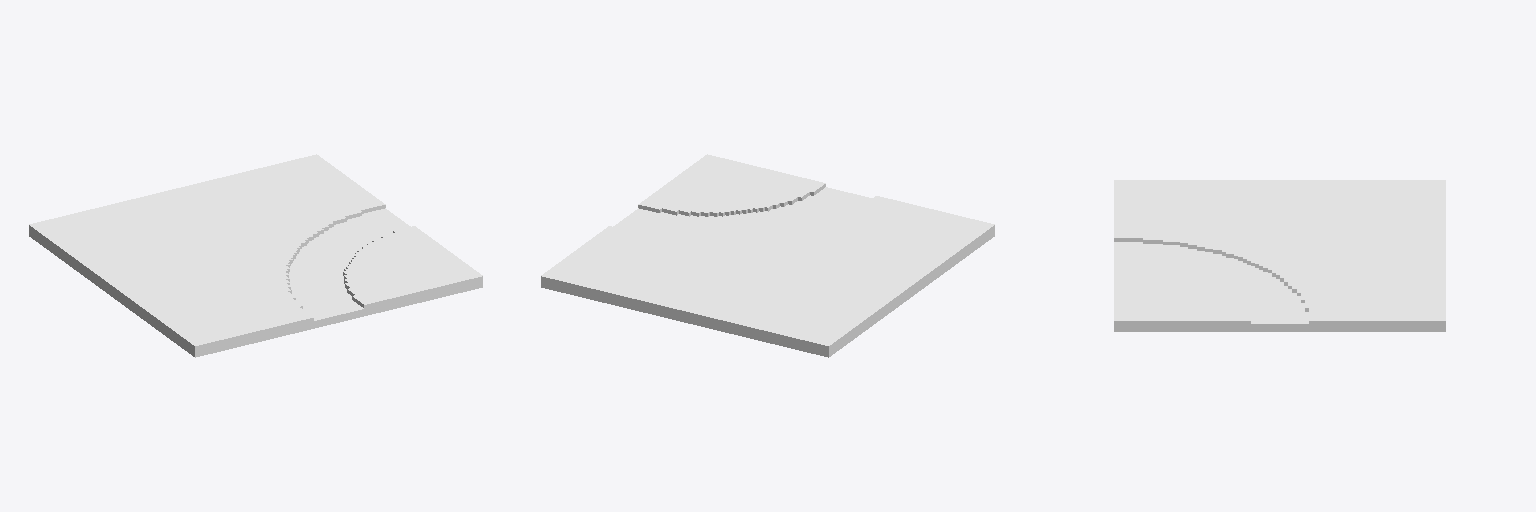
The model's file is slowCorner.obj.
3 views of the same model, side by side, from view 1: azimuth 30°, elevation 25°; view 2: azimuth 150°, elevation 25°; view 3: azimuth 270°, elevation 25° (orthographic).
Parts seen in each view (by area): view 1: slowCorner; view 2: slowCorner; view 3: slowCorner.
Part boxes in pixels (left/top/right/bottom): slowCorner: left=29, top=154, right=482, bottom=357; slowCorner: left=541, top=154, right=994, bottom=357; slowCorner: left=1114, top=180, right=1445, bottom=331.
Bounding box in the file's own units: 80 × 3 × 80.